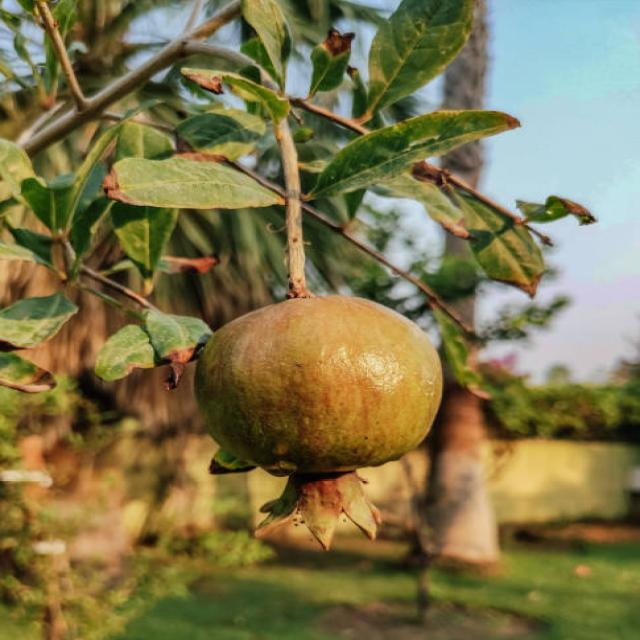Unripe: (193, 291, 445, 554)
